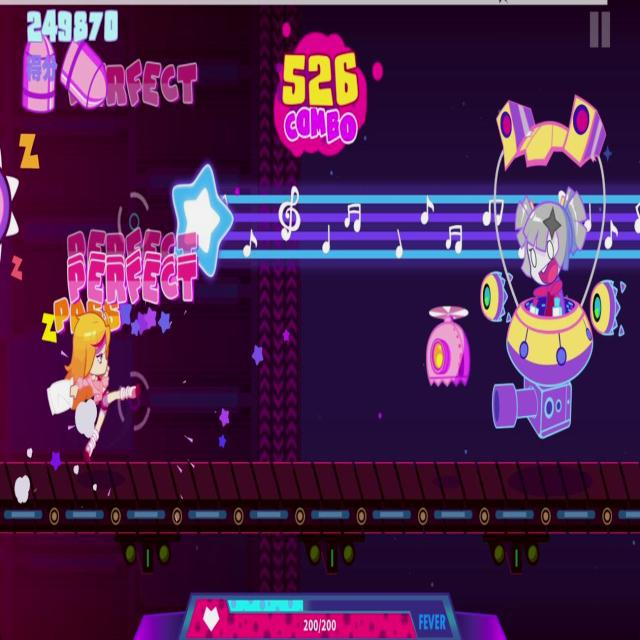cheboss: (478, 89, 630, 442)
hold: (170, 157, 640, 279)
jian: (62, 30, 114, 114), (22, 36, 58, 116)
jiqiqiu: (424, 300, 474, 388)
